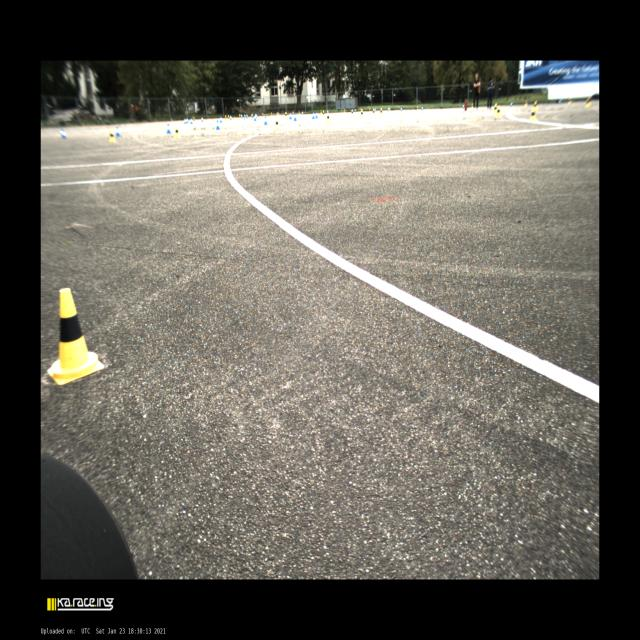blue_cone: (165, 122, 172, 134), (214, 119, 221, 130), (60, 128, 66, 139), (115, 125, 121, 136), (264, 116, 268, 124), (312, 111, 316, 119), (315, 111, 319, 119), (294, 113, 297, 121), (190, 118, 193, 124), (219, 116, 222, 122), (290, 112, 292, 120), (510, 102, 513, 107), (184, 118, 186, 124), (201, 116, 203, 122), (230, 114, 232, 120), (255, 114, 258, 118), (186, 118, 188, 123), (254, 116, 256, 121), (559, 99, 561, 104), (244, 114, 246, 118), (246, 114, 248, 118), (354, 109, 356, 112), (241, 114, 242, 118), (302, 111, 303, 115), (327, 110, 328, 114), (375, 108, 376, 112), (388, 107, 389, 111), (401, 107, 402, 111), (422, 106, 423, 110), (463, 105, 464, 109)
yellow_cone: (48, 288, 104, 386), (529, 108, 537, 122), (173, 126, 180, 138), (109, 131, 116, 142), (495, 106, 501, 118), (274, 119, 280, 130), (585, 97, 590, 108), (326, 112, 330, 124), (493, 103, 497, 114), (534, 100, 538, 111), (360, 109, 363, 118), (372, 108, 375, 116), (322, 110, 325, 117), (351, 109, 354, 116), (368, 108, 371, 114), (380, 107, 382, 116), (568, 98, 571, 104), (224, 115, 227, 120), (525, 101, 528, 106), (262, 112, 264, 119), (251, 114, 253, 120), (285, 112, 287, 118), (298, 110, 300, 116), (270, 112, 272, 117), (292, 111, 294, 116), (320, 110, 322, 115), (471, 103, 473, 108), (276, 112, 278, 116), (278, 112, 280, 116), (416, 106, 418, 110), (228, 114, 229, 120), (344, 108, 345, 114), (239, 114, 240, 118), (389, 108, 390, 112)
